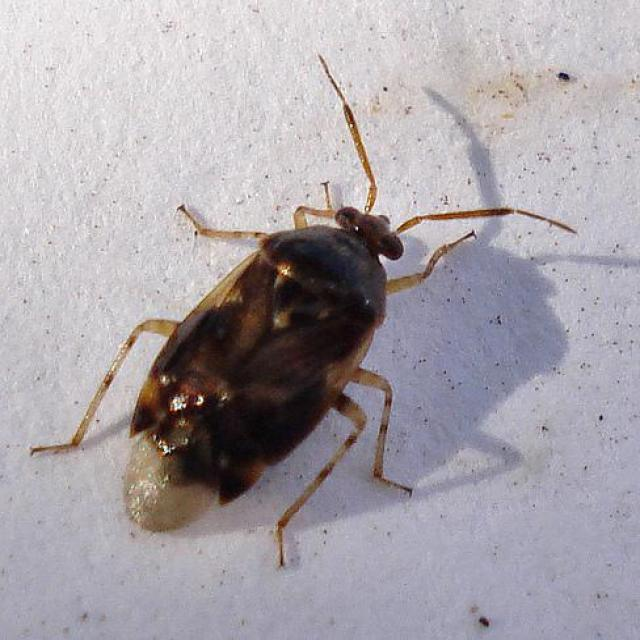Miridae-Adult-: (95, 49, 558, 570)
